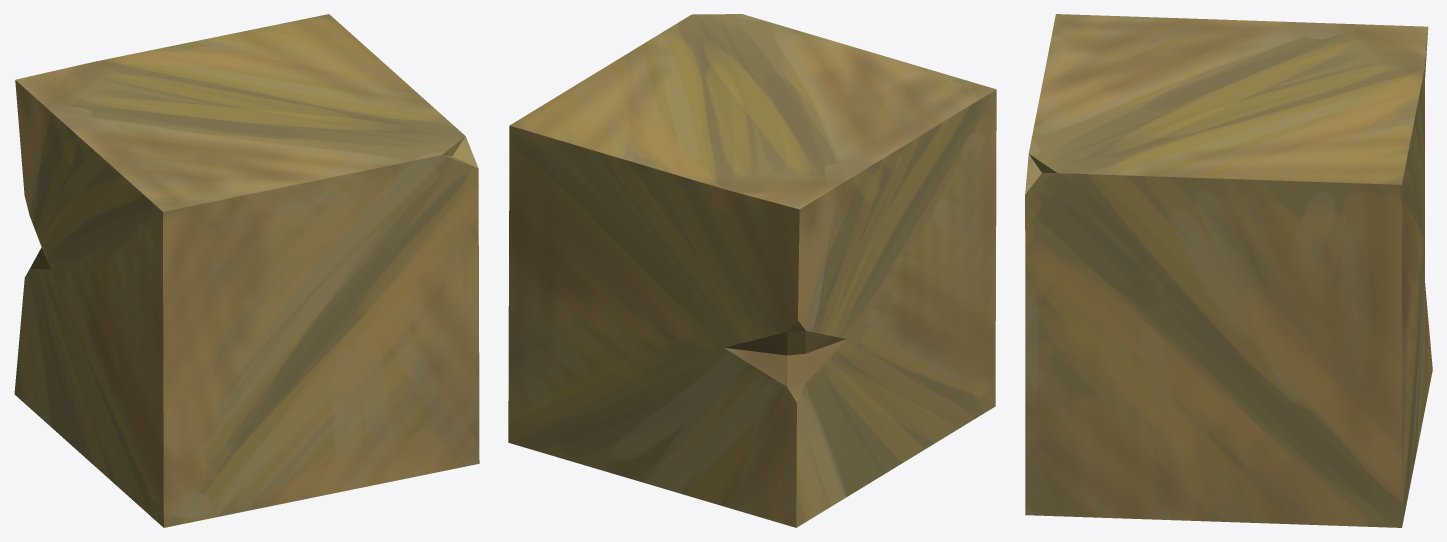
The model's file is Dented_Box.fbx.
The picture shows the model from 3 angles, left to right: view 1: azimuth 30°, elevation 25°; view 2: azimuth 150°, elevation 25°; view 3: azimuth 270°, elevation 25°; orthographic projection. The views are drawn at different scales.
Parts seen in each view (by area): view 1: Cube.002; view 2: Cube.002; view 3: Cube.002.
Boxes of the visible parts, box(x1,y1,x2,y2) form: Cube.002: box(14, 14, 479, 527); Cube.002: box(508, 14, 996, 527); Cube.002: box(1025, 14, 1432, 527).
Size of the model in its own units: 64.9 by 60.24 by 64.71.
1 material, 1 textured.
